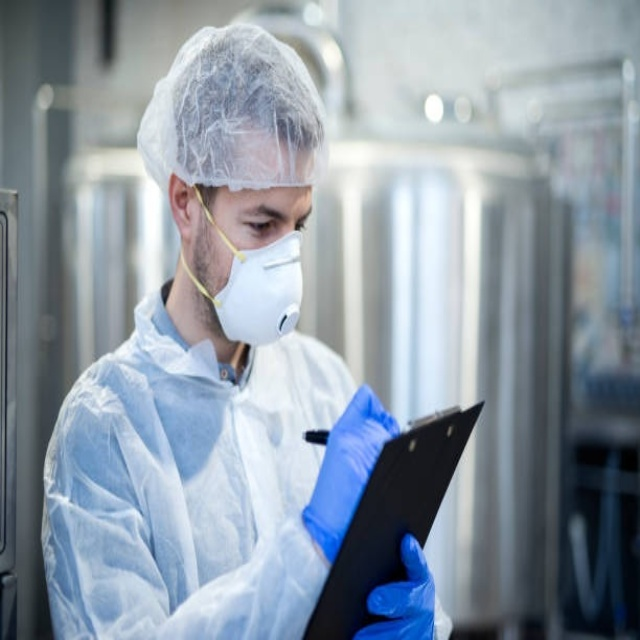Guantes: (303, 385, 402, 568), (351, 529, 437, 638)
Mascara: (189, 190, 304, 348)
Sin_gafas: (234, 195, 313, 246)
